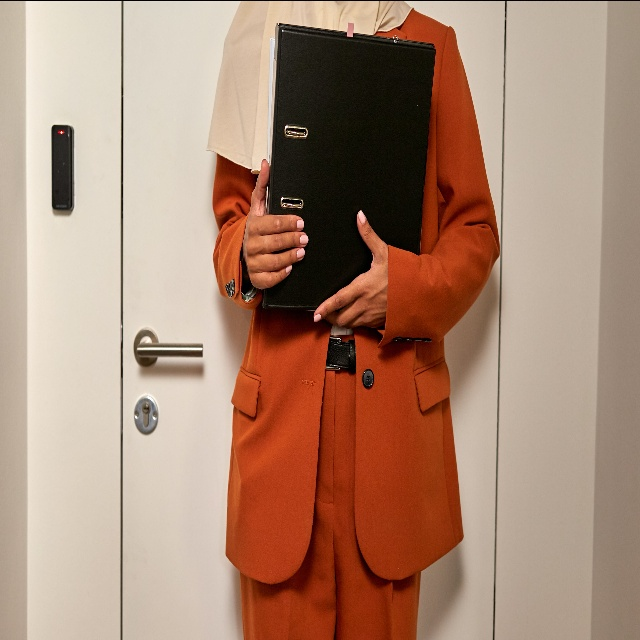Sin_guantes: (313, 208, 390, 338), (239, 155, 308, 294)
